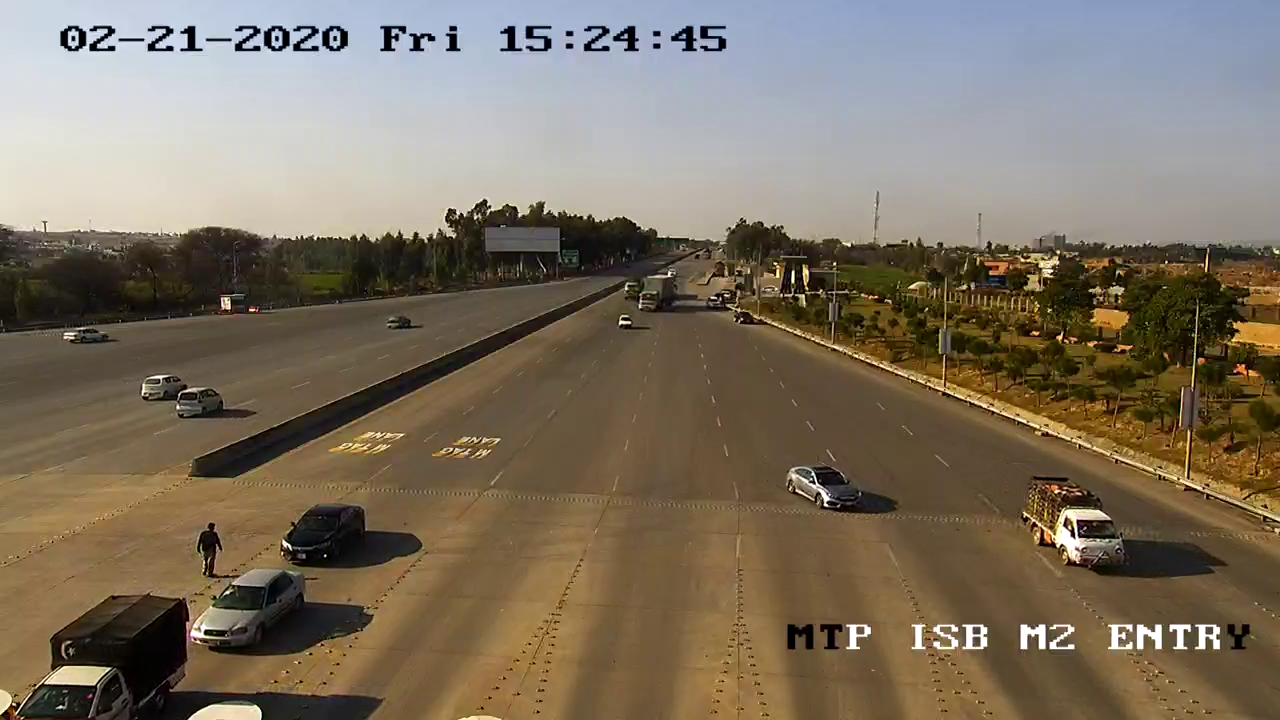f1: (189, 564, 315, 655), (279, 496, 374, 571), (784, 451, 867, 520)
f2: (1012, 470, 1139, 582)
